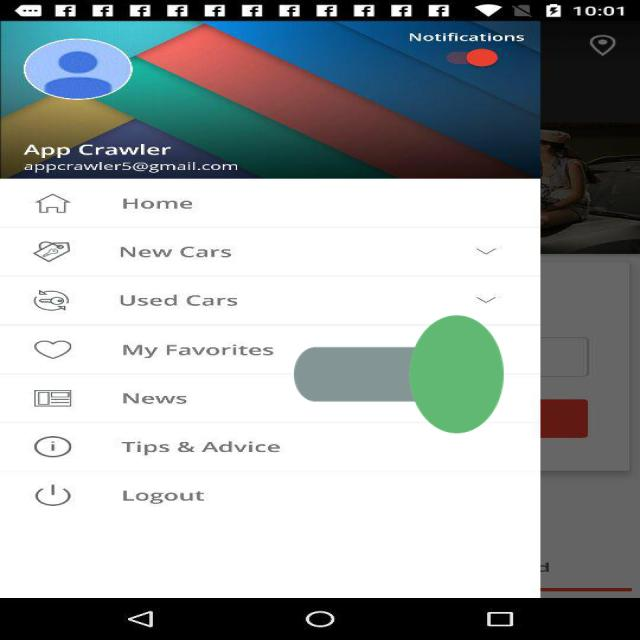social proof: (294, 243, 504, 506)
